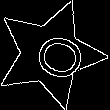O_W: (17, 25, 83, 83)
